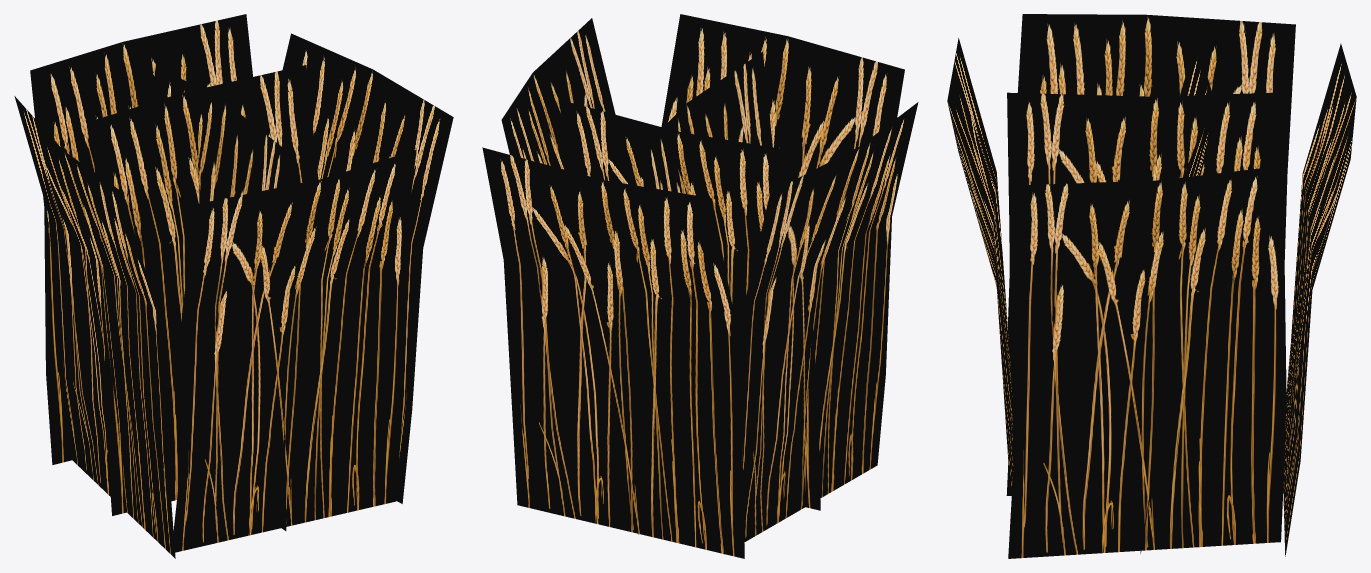
File: wheat.fbx
3 renders of one model, left to right at view 1: azimuth 30°, elevation 25°; view 2: azimuth 150°, elevation 25°; view 3: azimuth 270°, elevation 25°, orthographic. The views are drawn at different scales.
Parts seen in each view (by area): view 1: wheat; view 2: wheat; view 3: wheat.
Part boxes in pixels (x1,y1,x2,y2): wheat: [14, 14, 453, 558]; wheat: [482, 14, 918, 558]; wheat: [947, 14, 1356, 558].
Bounding box in the file's own units: 9.03 × 10.04 × 9.12.
